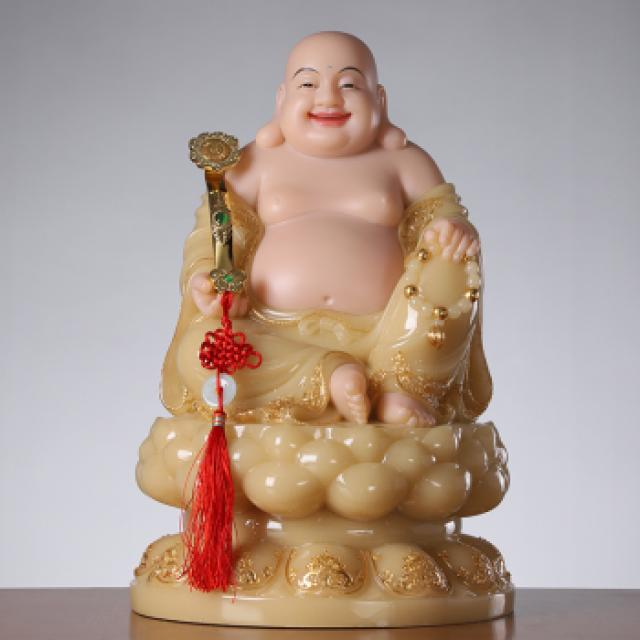Smiling Buddha: (172, 24, 487, 423)
